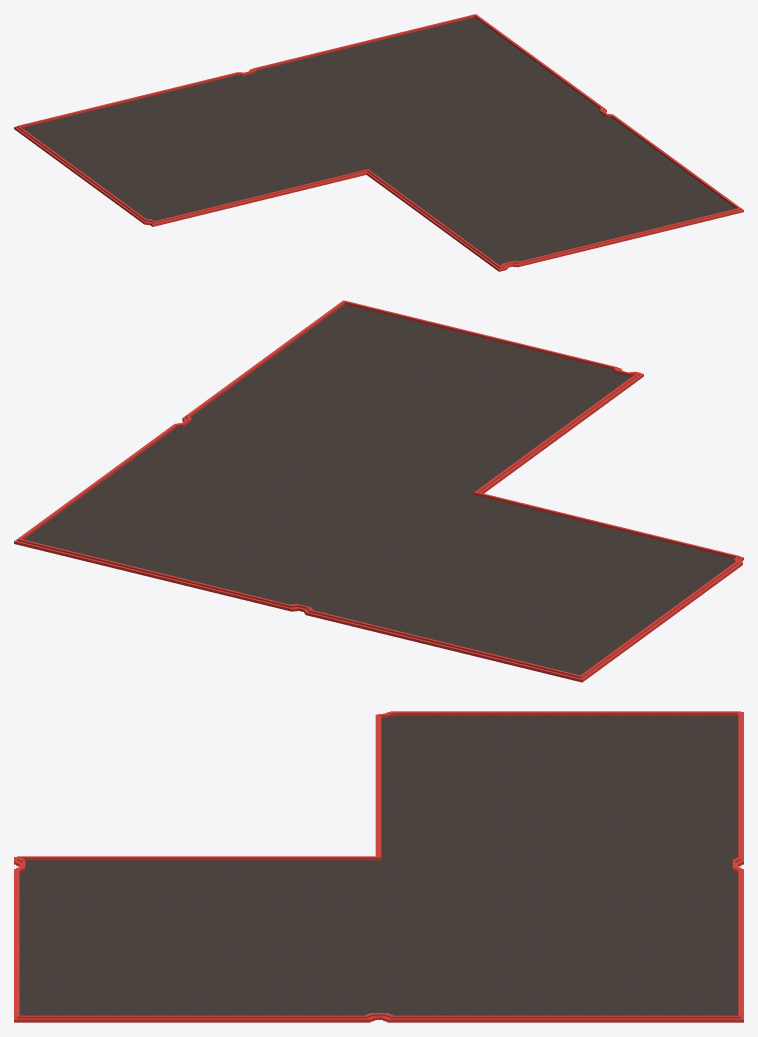
Rendered from roof.fbx.
3 renders of one model, top to bottom at view 1: azimuth 30°, elevation 25°; view 2: azimuth 150°, elevation 25°; view 3: azimuth 270°, elevation 25°, orthographic. The views are drawn at different scales.
Parts seen in each view (by area): view 1: roof; view 2: roof; view 3: roof.
Part boxes in pixels (bbox=[...]): roof: bbox=[14, 14, 743, 271]; roof: bbox=[14, 300, 743, 682]; roof: bbox=[14, 711, 743, 1022].
Bounding box in the file's own units: 7653 × 53.67 × 7673.
